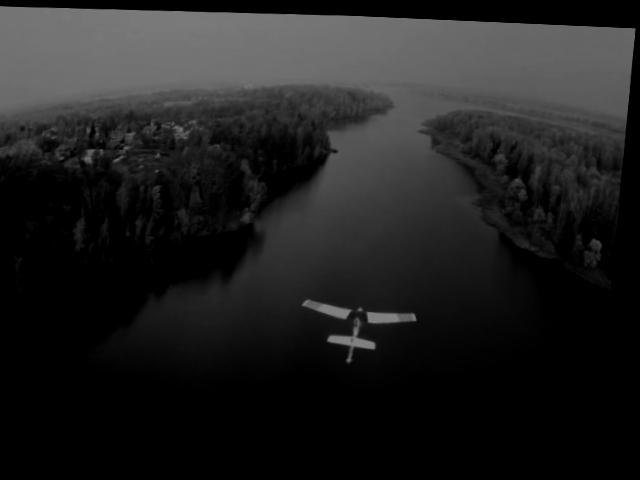hedef: (296, 283, 431, 374)
